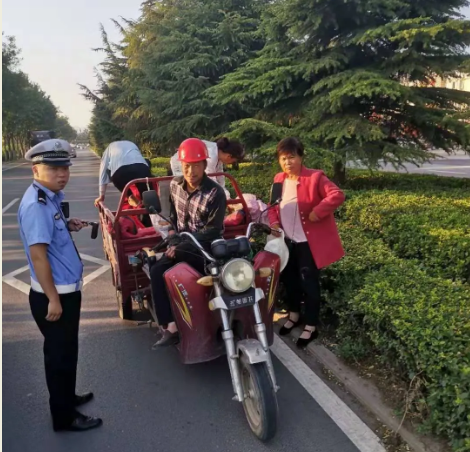driver: (151, 139, 229, 356)
overloading: (93, 137, 354, 443)
passenger: (264, 143, 347, 346), (95, 135, 154, 239), (209, 130, 244, 191)
